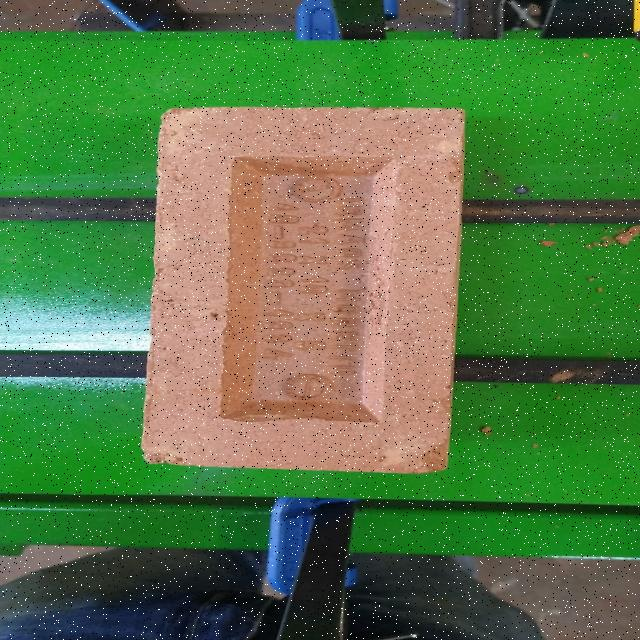bricks: (137, 107, 462, 471)
